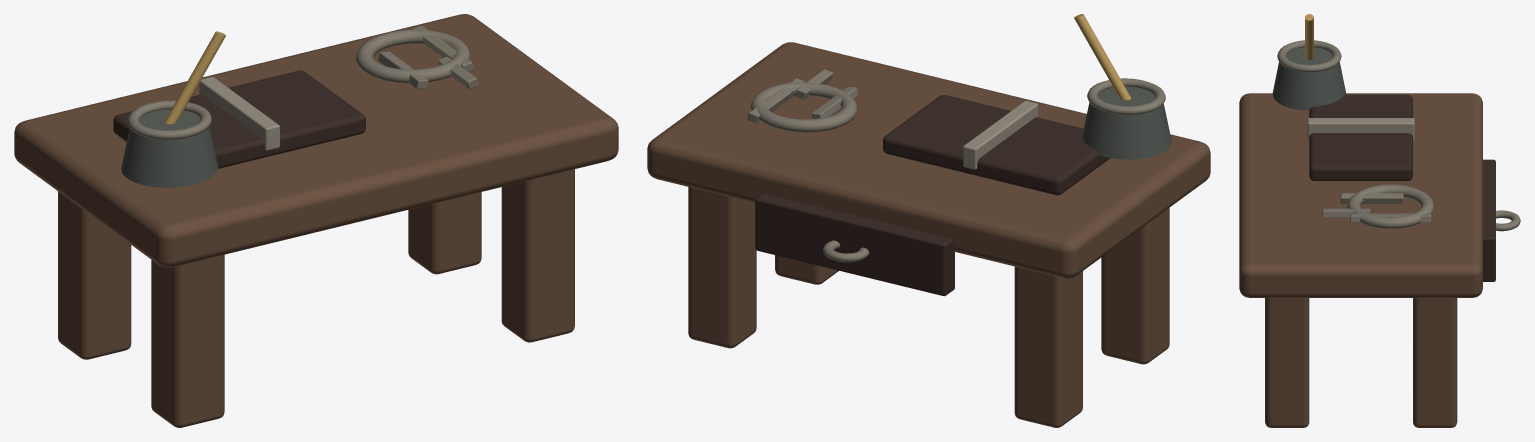
Rendered from detail_jailer_desk.glb.
The picture shows the model from 3 angles, left to right: view 1: azimuth 30°, elevation 25°; view 2: azimuth 150°, elevation 25°; view 3: azimuth 270°, elevation 25°; orthographic projection. The views are drawn at different scales.
Parts seen in each view (by area): view 1: wood, stone, metal; view 2: wood, stone, metal; view 3: wood, stone, metal.
Boxes of the visible parts, box(x1,y1,x2,y2) form: wood: box(14, 14, 618, 427); stone: box(121, 109, 218, 187); metal: box(199, 77, 279, 150); wood: box(647, 14, 1210, 427); stone: box(1082, 86, 1171, 159); metal: box(963, 101, 1038, 169); wood: box(1239, 14, 1520, 427); stone: box(1272, 47, 1346, 110); metal: box(1307, 118, 1414, 140).
Bounding box in the file's own units: 1.2 × 0.9 × 0.8.
